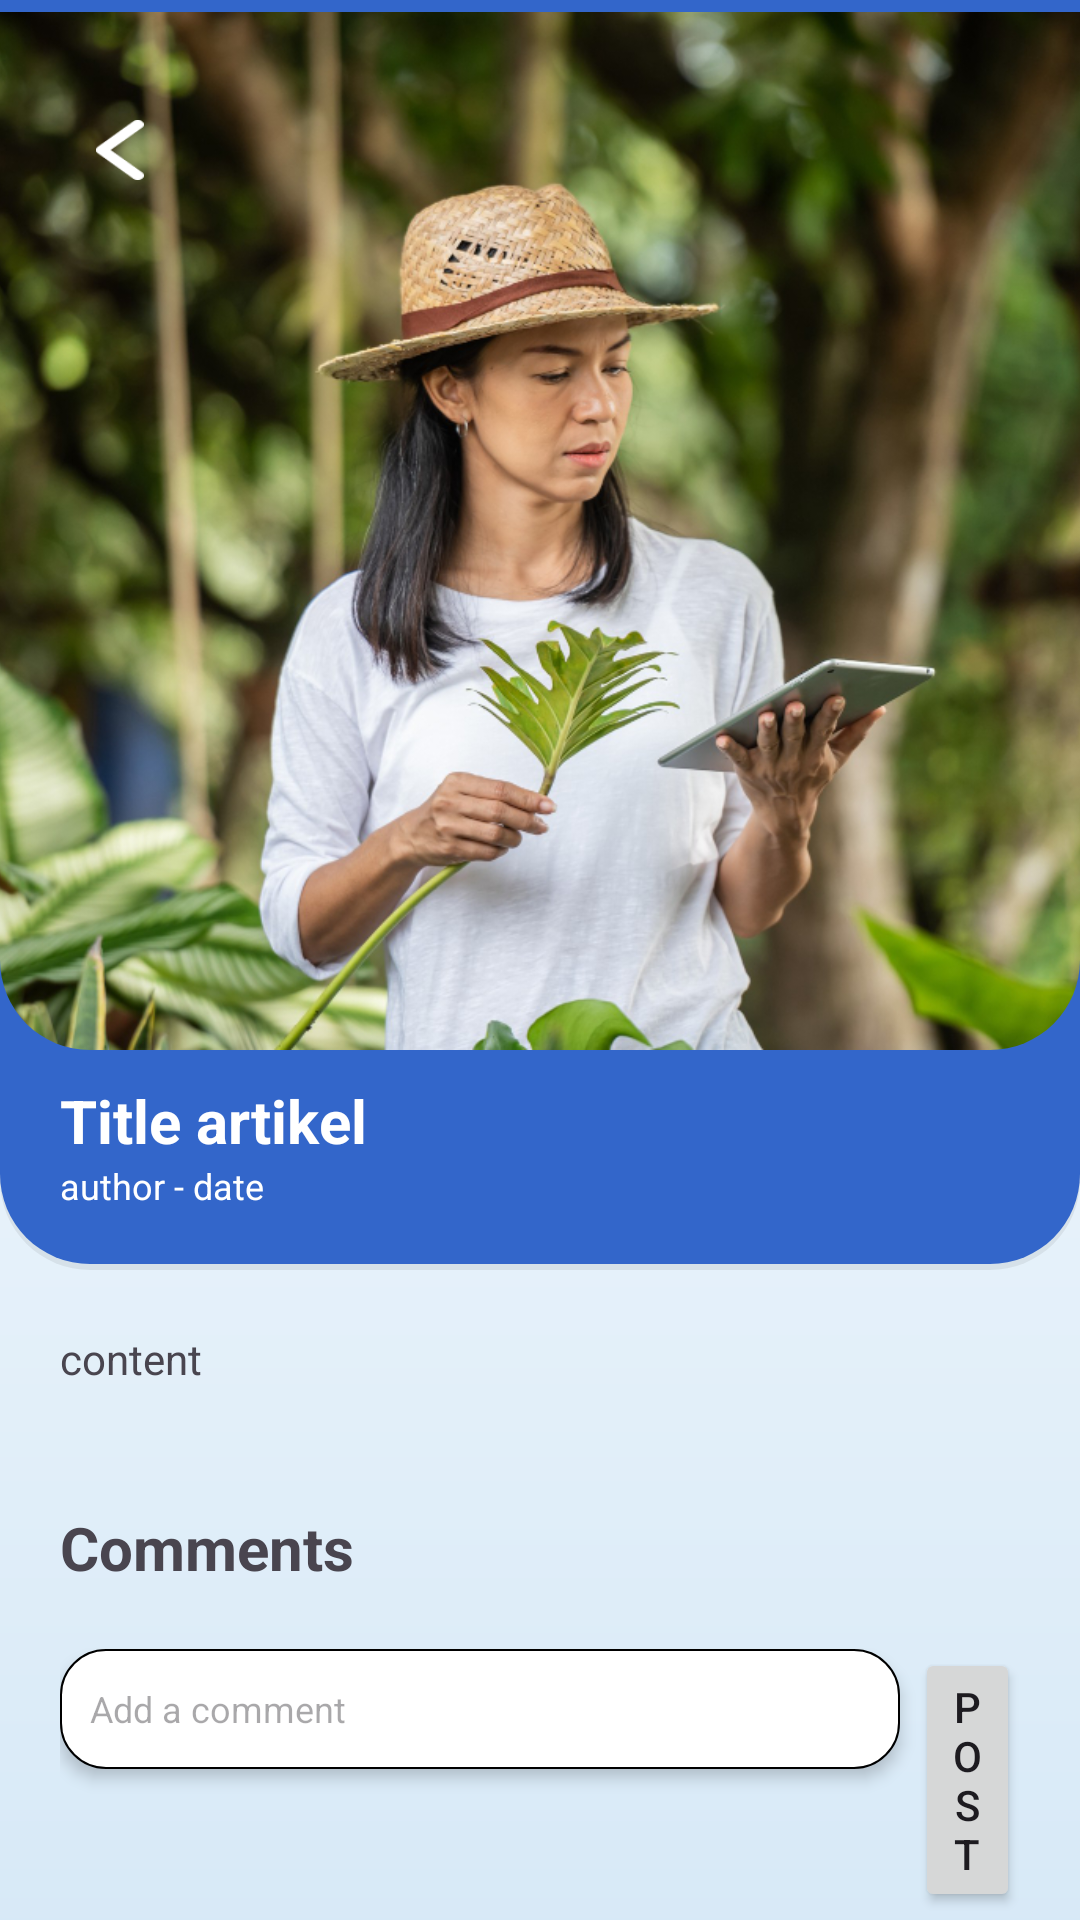

Point at icon controls on the screen. Image size 1080 x 1920, points as (x,y).
arrow left: (120,150)
